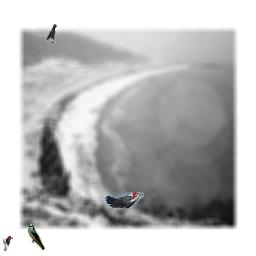Crow: (46, 24, 57, 43)
Swallow: (28, 223, 45, 250)
Woodpecker: (104, 192, 144, 208), (3, 236, 13, 252)
